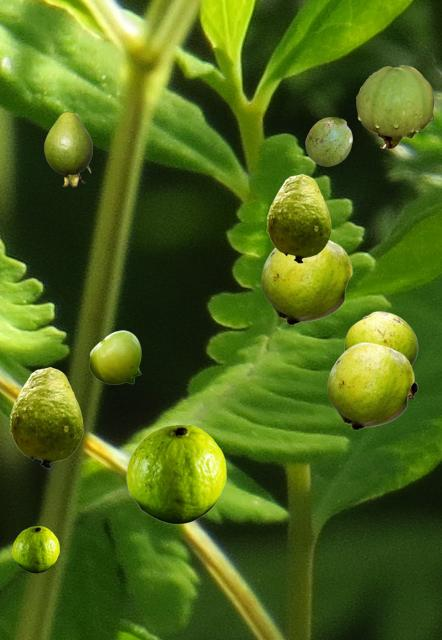guava: (126, 424, 225, 523), (261, 240, 351, 324), (327, 342, 413, 429), (9, 367, 82, 467), (356, 65, 433, 148), (344, 311, 417, 397), (266, 174, 330, 262), (44, 112, 91, 186), (89, 330, 140, 383), (305, 117, 351, 165), (12, 526, 58, 572)
